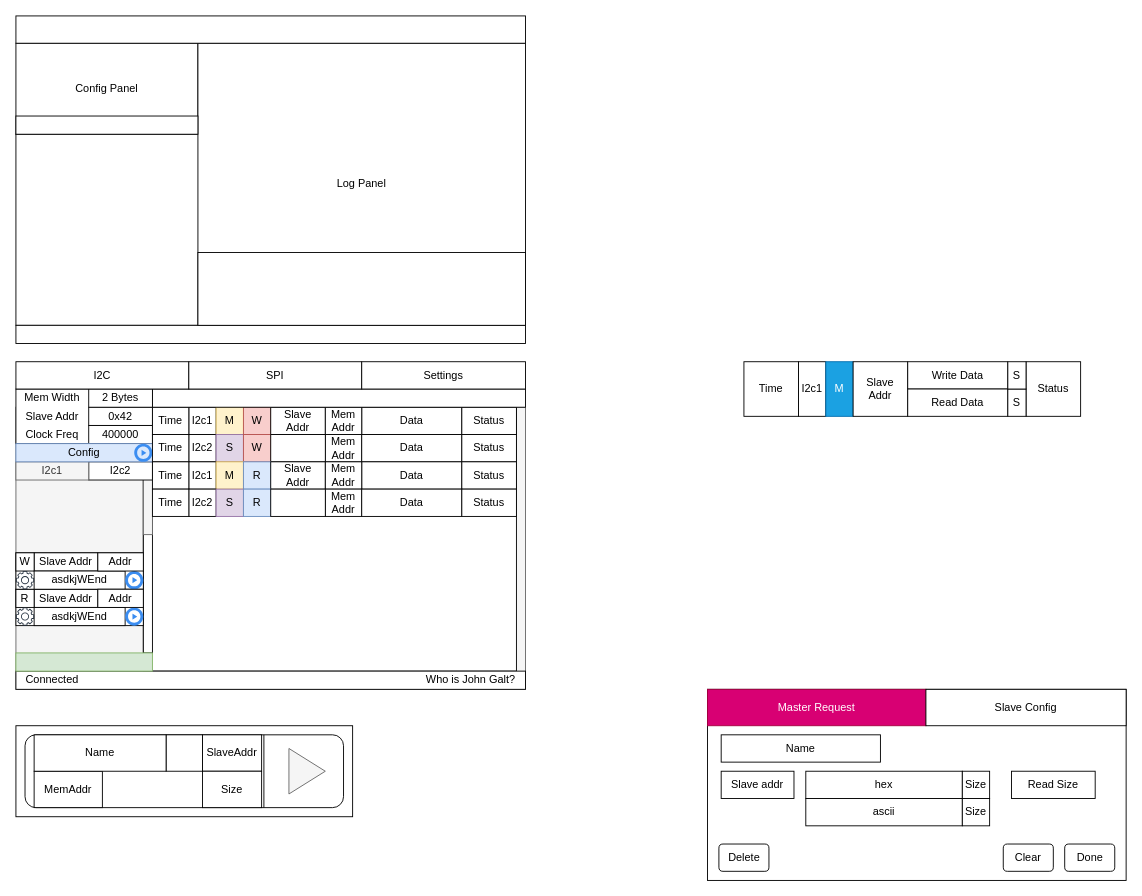
Image size: 1142x896. Some labels were removed from this diagram. The centre of each missing label's shape, as x and y in pixels:
"Add" belongs at point (83, 661).
"Config Tab Bar" belongs at point (106, 124).
"Footer Panel" belongs at point (270, 334).
"Log" belongs at point (339, 397).
"MR/SC" belongs at point (183, 752).
"Request Form Panel" belongs at point (361, 288).
"Request List Panel" belongs at point (111, 229).
"Tab Bar" belongs at point (270, 29).
